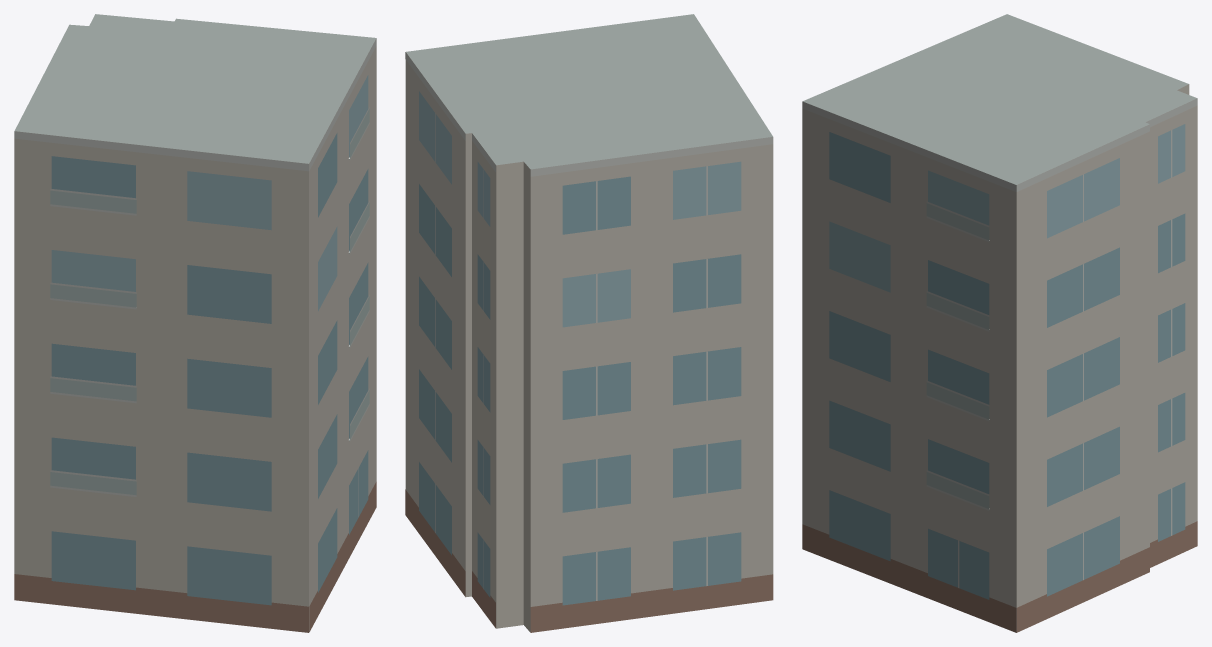
File: survey-upis-32745143.glb
3 views of the same model, side by side, from view 1: azimuth 30°, elevation 25°; view 2: azimuth 150°, elevation 25°; view 3: azimuth 270°, elevation 25° (orthographic). The views are drawn at different scales.
Parts seen in each view (by area): view 1: survey-upis-32745143.tmp; view 2: survey-upis-32745143.tmp; view 3: survey-upis-32745143.tmp.
Part boxes in pixels (bbox=[...]): survey-upis-32745143.tmp: bbox=[14, 14, 376, 632]; survey-upis-32745143.tmp: bbox=[405, 14, 773, 632]; survey-upis-32745143.tmp: bbox=[802, 14, 1197, 632].
Size of the model in its own units: 12.5 by 15.25 by 12.2.
